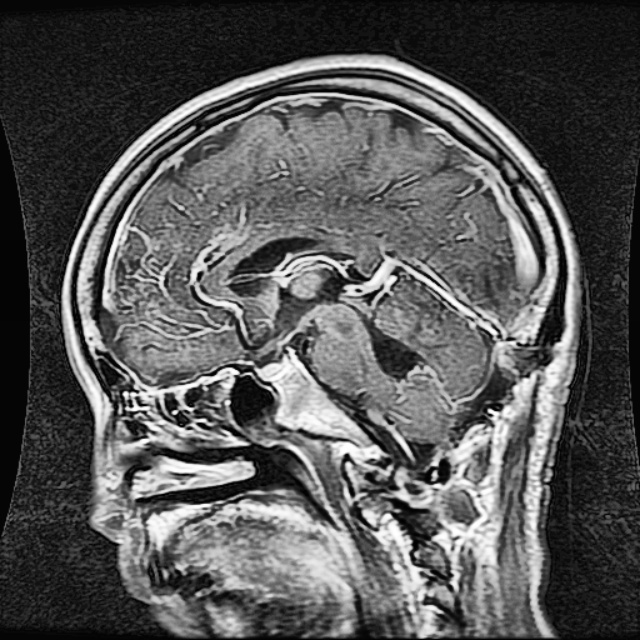Meningioma: (227, 237, 424, 383)
